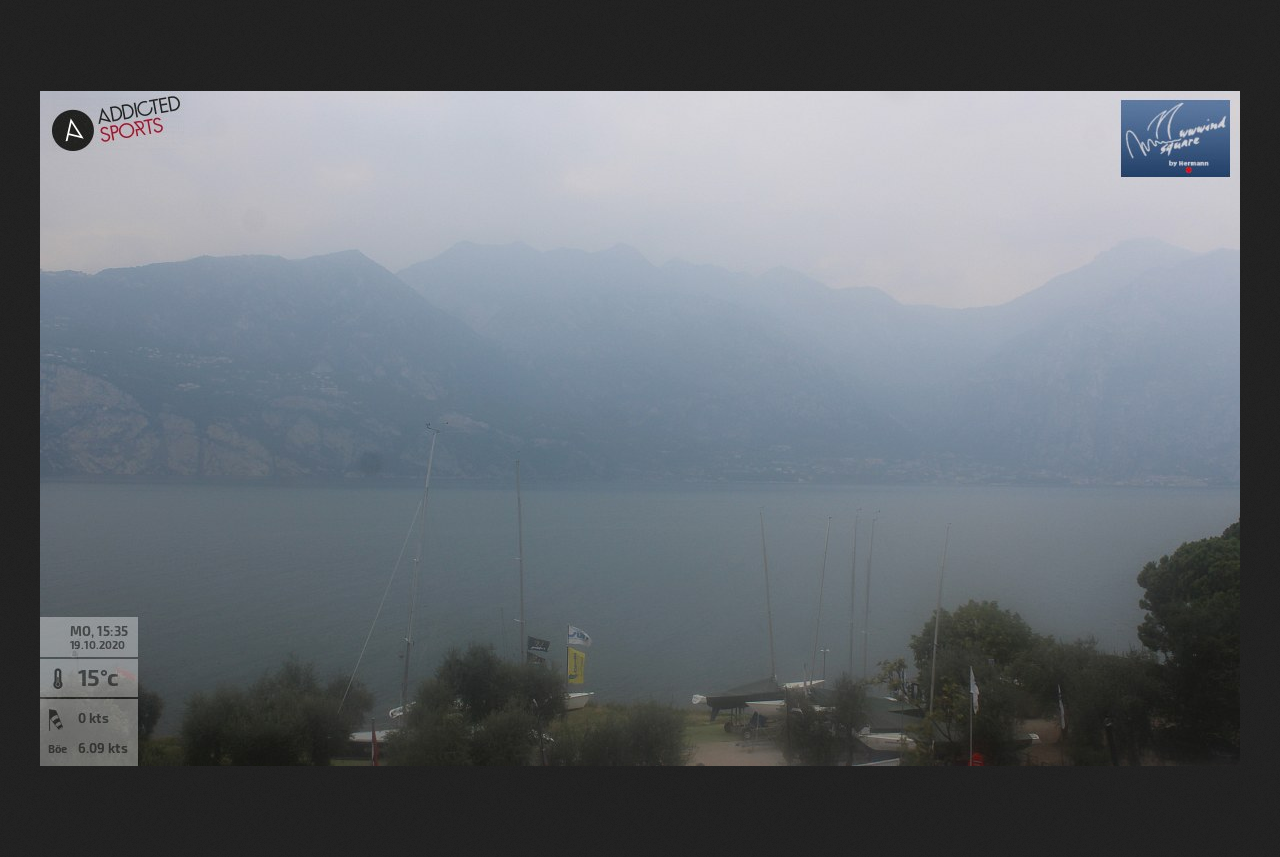no: (965, 660, 984, 716), (1057, 685, 1068, 732)
yes: (567, 623, 597, 646), (528, 634, 554, 657)
